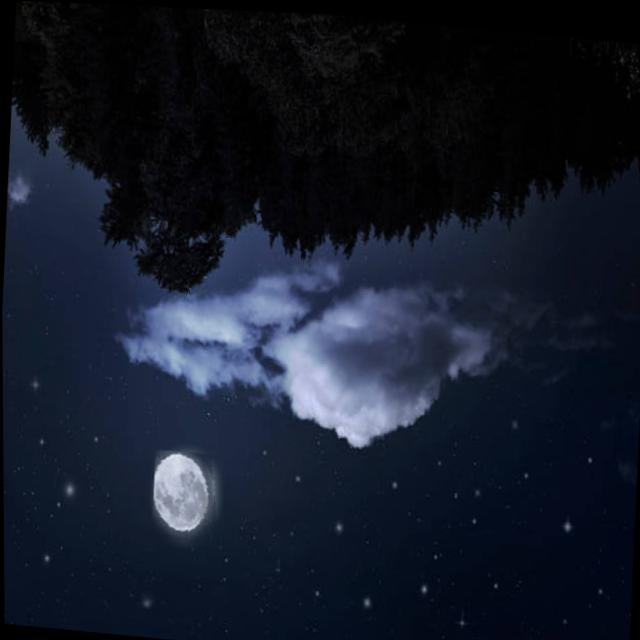moon: (150, 448, 223, 544)
